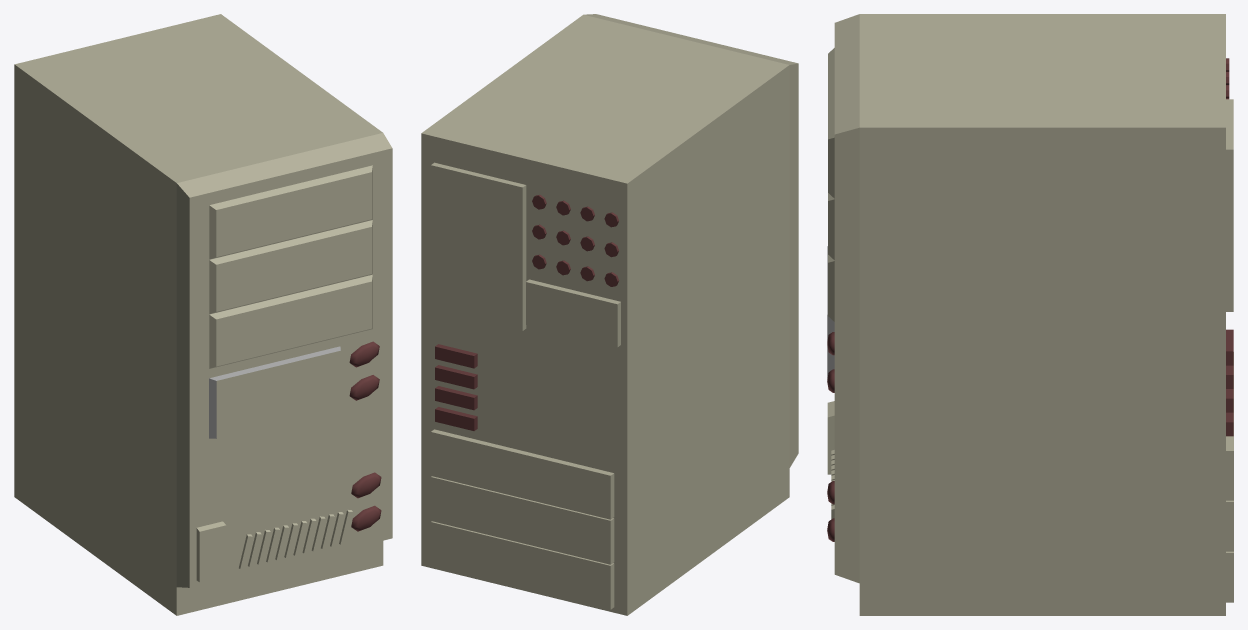
The model's file is CPU.fbx.
3 renders of one model, left to right at view 1: azimuth 30°, elevation 25°; view 2: azimuth 150°, elevation 25°; view 3: azimuth 270°, elevation 25°, orthographic. The views are drawn at different scales.
Parts seen in each view (by area): view 1: polySurface9, polySurface14, polySurface13, polySurface11, pCube13, pCube31, pCube18; view 2: polySurface9, pCube32, pCube36, pCube34, pCube35, pCube37, pCylinder14, pCube41, pCube39, pCube40, pCube38; view 3: polySurface9, pCube32, polySurface13, pCube36.
Part boxes in pixels (<box>): polySurface9: <box>14,14,392,615</box>; polySurface14: <box>209,220,372,314</box>; polySurface13: <box>209,165,372,259</box>; polySurface11: <box>209,274,372,368</box>; pCube13: <box>209,346,340,438</box>; pCube31: <box>239,509,352,569</box>; pCube18: <box>196,521,226,582</box>; polySurface9: <box>421,14,798,615</box>; pCube32: <box>431,162,526,330</box>; pCube36: <box>431,429,614,519</box>; pCube34: <box>431,521,614,609</box>; pCube35: <box>431,476,614,564</box>; pCube37: <box>526,279,620,347</box>; pCylinder14: <box>532,195,618,286</box>; pCube41: <box>435,344,477,368</box>; pCube39: <box>435,386,477,410</box>; pCube40: <box>435,365,477,389</box>; pCube38: <box>435,407,477,430</box>; polySurface9: <box>834,14,1225,615</box>; pCube32: <box>1226,99,1233,311</box>; polySurface13: <box>828,48,834,198</box>; pCube36: <box>1226,352,1233,500</box>.
Bounding box in the file's own units: 1.15 × 2.3 × 1.73.
